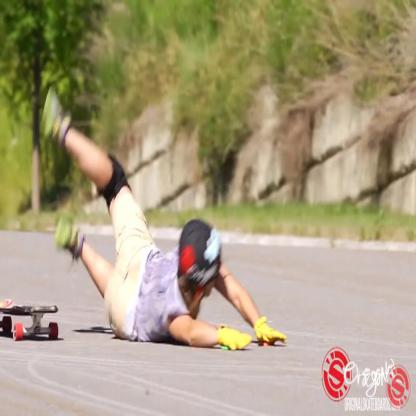Fall_Down: (42, 86, 290, 358)
